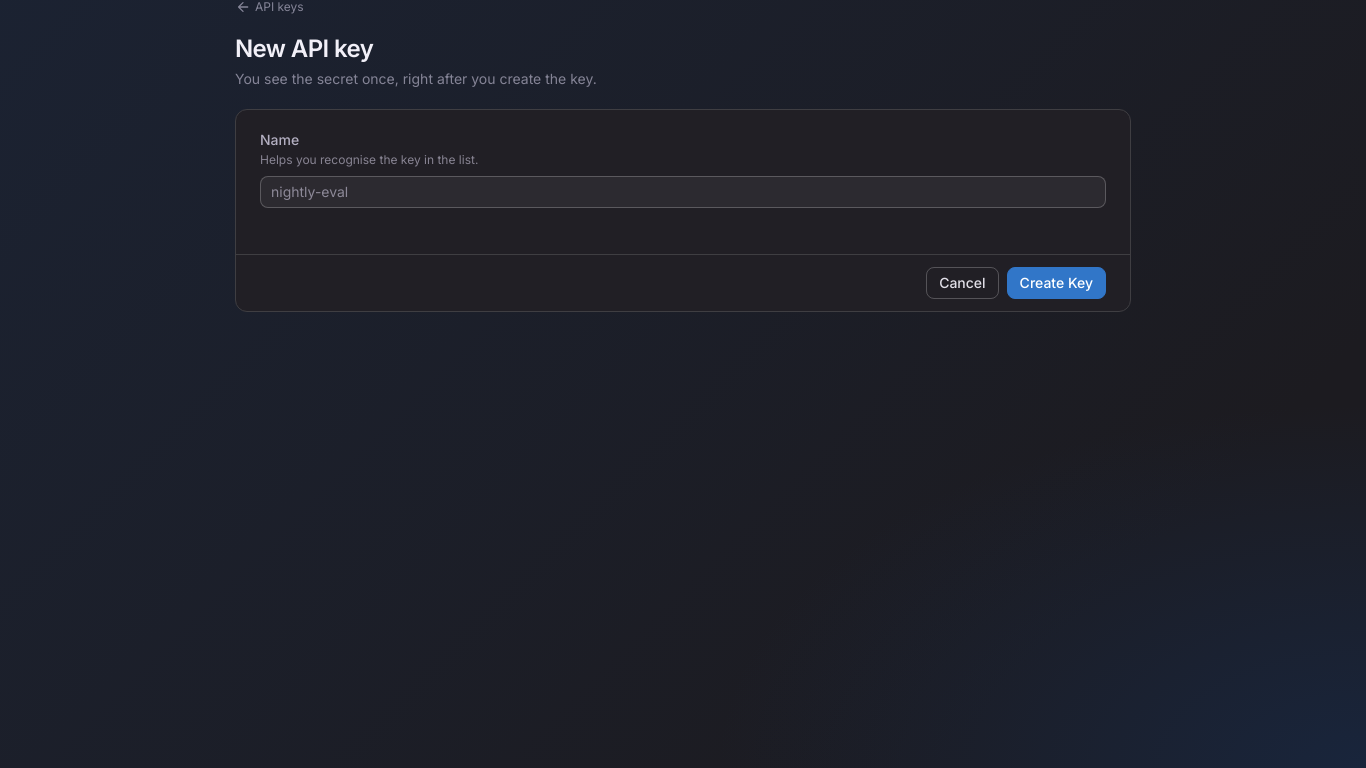
Test: New API key page › creates the key under its form and shows the token once
Type " nightly-eval " into the field labelled "Name" at (683, 192), box [271, 177, 1095, 207]
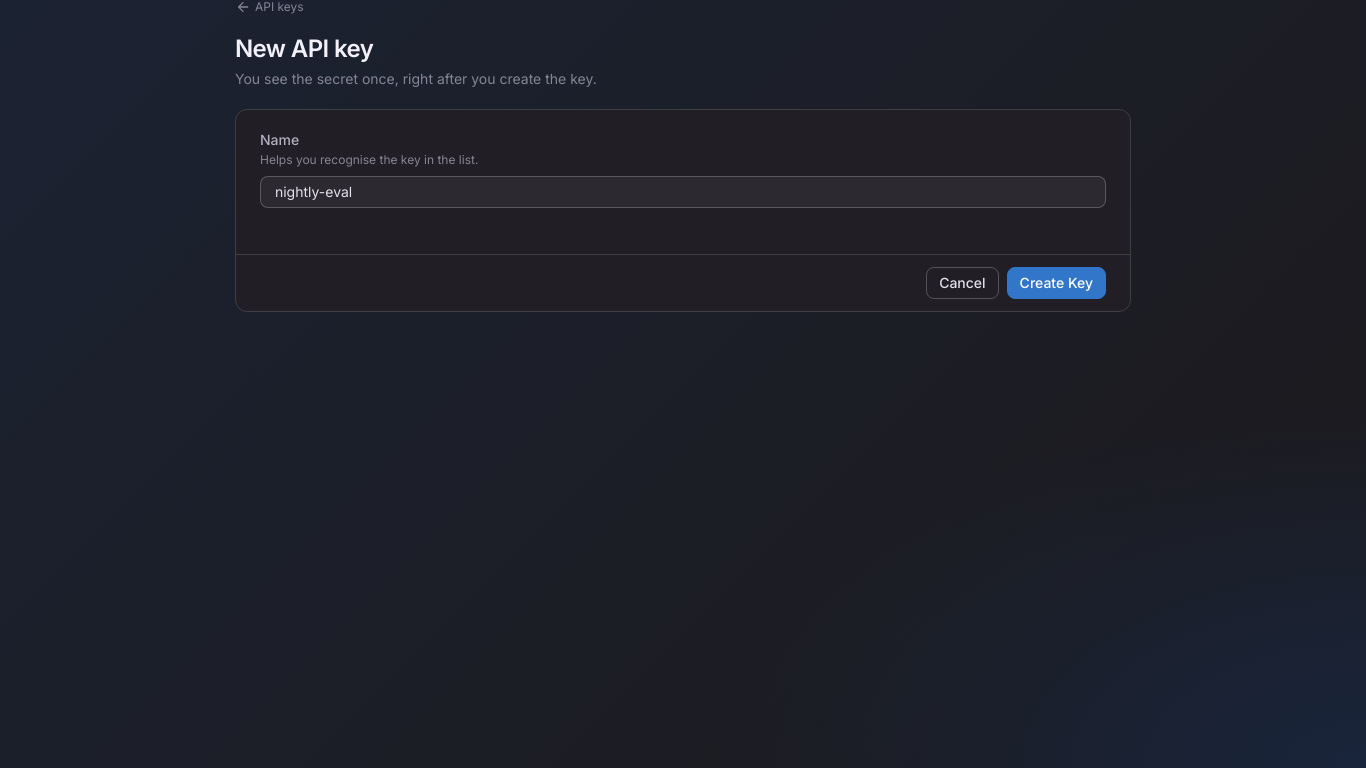
Submit the form, box [235, 109, 1131, 312]
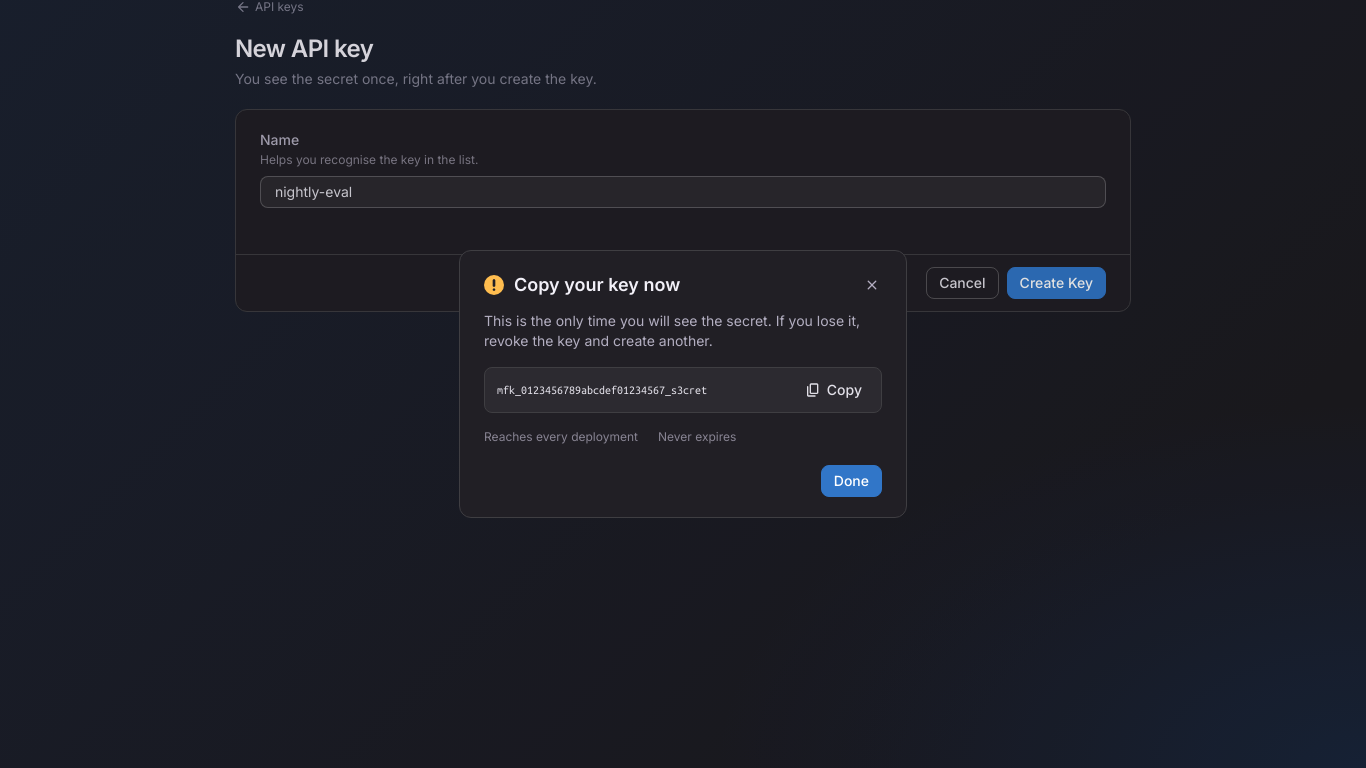
Expected: the dialog shows "Copy your key now", [514, 274, 680, 295]
Expected: the dialog shows "This is the only time you will see the secret.", [484, 312, 860, 349]
Expected: the text with test id "api-key-token" reads "mfk_0123456789abcdef01234567_s3cret", [497, 384, 707, 396]
